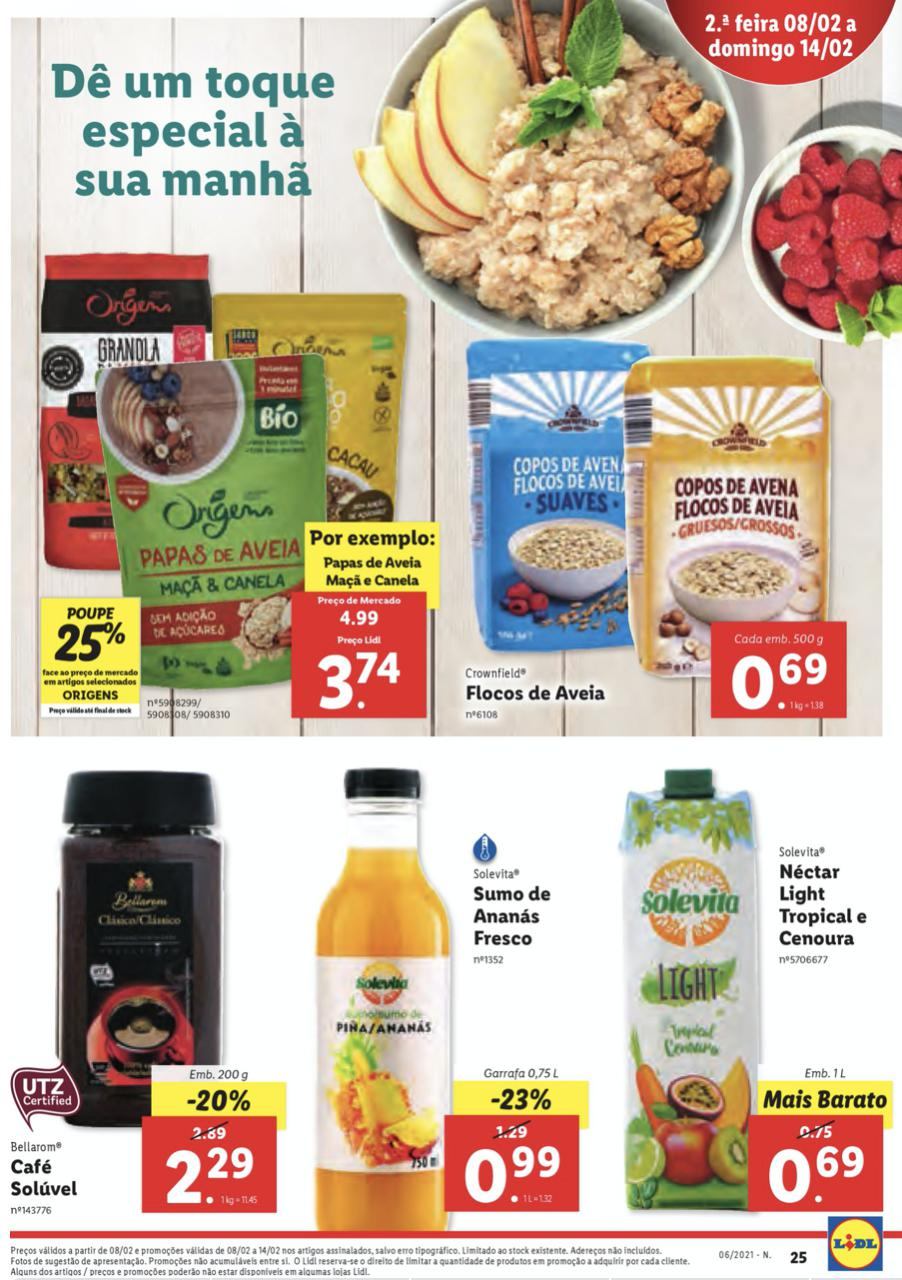name: (779, 861, 874, 952), (468, 885, 560, 950), (462, 676, 614, 707), (11, 1155, 84, 1204)
price: (763, 1137, 868, 1207), (154, 1142, 258, 1209), (312, 647, 411, 715), (460, 1142, 560, 1209), (730, 647, 831, 712)
product: (23, 236, 446, 733), (450, 318, 868, 731), (1, 750, 298, 1218), (298, 761, 596, 1218), (604, 766, 890, 1217)
promotion: (46, 617, 130, 666), (182, 1085, 257, 1117), (485, 1085, 557, 1114)
